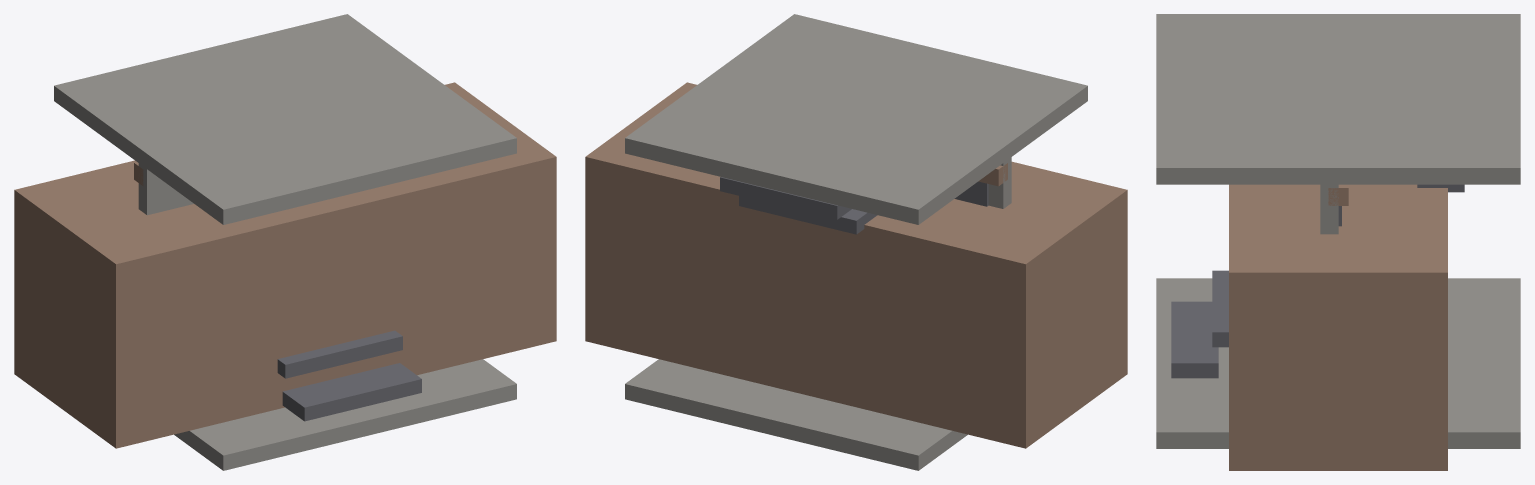
The model's file is kit_industrial.glb.
3 renders of one model, left to right at view 1: azimuth 30°, elevation 25°; view 2: azimuth 150°, elevation 25°; view 3: azimuth 270°, elevation 25°, orthographic. The views are drawn at different scales.
Visible parts, largest first — view 1: SM_Container_6m, SM_Ceiling_4x4, SM_Floor_4x4, SM_Stair_Step_00, SM_Stair_Step_01, SM_Wall_4x3, SM_Wall_Door_4x3_A; view 2: SM_Container_6m, SM_Ceiling_4x4, SM_Floor_4x4, SM_Stair_Step_07, SM_Stair_Step_06, SM_Wall_4x3; view 3: SM_Ceiling_4x4, SM_Container_6m, SM_Floor_4x4, SM_Stair_Step_00, SM_Stair_Step_01, SM_Wall_4x3, SM_Pipe_4m.
Part boxes in pixels (x1,y1,x2,y2): SM_Container_6m: (14,82,556,448); SM_Ceiling_4x4: (54,14,516,224); SM_Floor_4x4: (174,359,516,470); SM_Stair_Step_00: (282,363,421,421); SM_Stair_Step_01: (277,330,402,378); SM_Wall_4x3: (138,163,193,215); SM_Wall_Door_4x3_A: (147,169,192,214); SM_Container_6m: (585,82,1127,448); SM_Ceiling_4x4: (625,14,1087,224); SM_Floor_4x4: (625,359,967,470); SM_Stair_Step_07: (720,177,851,219); SM_Stair_Step_06: (739,196,877,234); SM_Wall_4x3: (988,157,1011,208); SM_Ceiling_4x4: (1156,14,1520,184); SM_Container_6m: (1229,184,1447,470); SM_Floor_4x4: (1156,278,1520,448); SM_Stair_Step_00: (1171,301,1218,378); SM_Stair_Step_01: (1212,270,1228,347); SM_Wall_4x3: (1320,184,1338,234); SM_Pipe_4m: (1328,184,1348,205).
Bounding box in the file's own units: 6 × 3.64 × 4.
